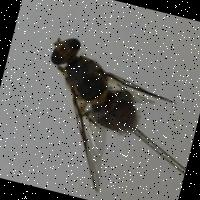Oriental-fruit-fly: (9, 24, 193, 200)
